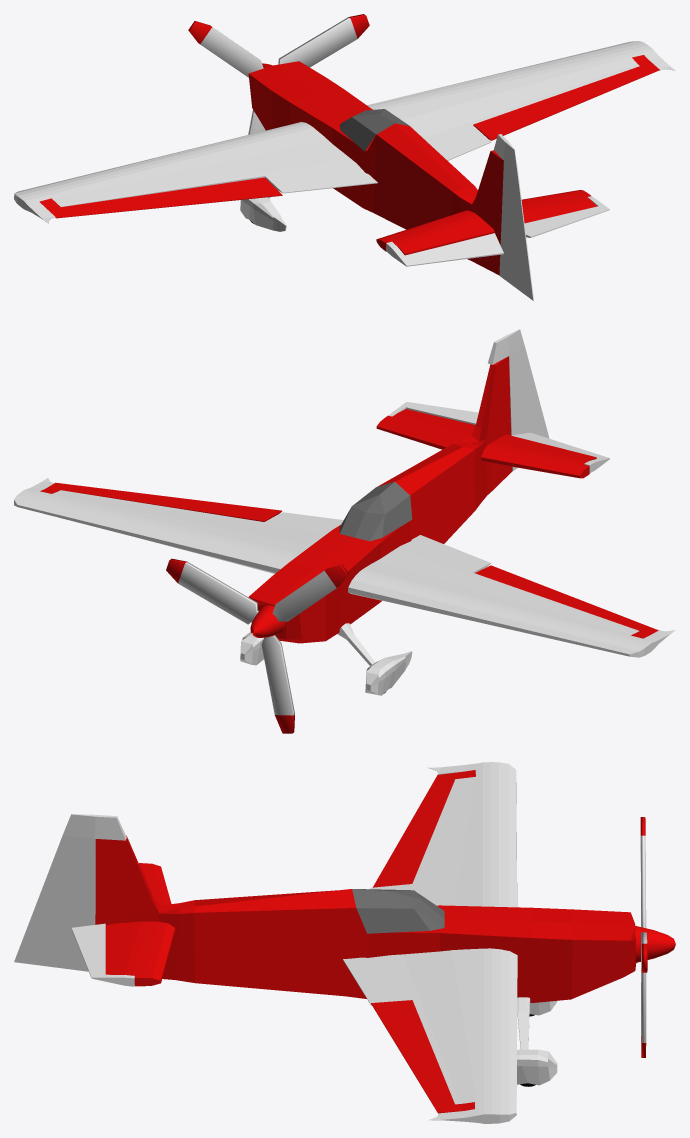
The model's file is RacePlane.fbx.
3 renders of one model, top to bottom at view 1: azimuth 30°, elevation 25°; view 2: azimuth 150°, elevation 25°; view 3: azimuth 270°, elevation 25°, orthographic. The views are drawn at different scales.
Parts seen in each view (by area): view 1: Body, Wing Left, Wing Right, Wing Left Flap, Tail, Cube, Rear Tail Left, Cube.007, Rear Tail Left Flap, Cube.008, Rear Tail Right, Cockpit (+2 smaller); view 2: Body, Wing Left, Wing Right, Tail, Rear Tail Left, Cockpit, Cube, Landing Gear, Rear Tail Right, Cube.007, Wing Left Flap, Cube.003 (+4 smaller); view 3: Body, Wing Right, Wing Left, Tail, Cube, Rear Tail Right, Wing Left Flap, Cockpit, Landing Gear, Rear Tail Right Flap, Propeller, Rear Tail Left (+1 smaller).
Part boxes in pixels (x1,y1,x2,y2): Body: (248, 61, 503, 274); Wing Left: (14, 122, 377, 223); Wing Right: (367, 41, 675, 160); Wing Left Flap: (39, 177, 282, 218); Tail: (494, 134, 533, 300); Cube: (473, 55, 659, 140); Rear Tail Left: (376, 210, 494, 255); Cube.007: (278, 14, 369, 67); Rear Tail Left Flap: (386, 233, 503, 266); Cube.008: (188, 21, 263, 77); Rear Tail Right: (521, 190, 596, 223); Cockpit: (340, 109, 409, 151); Body: (248, 356, 512, 643); Wing Left: (348, 535, 675, 657); Wing Right: (14, 478, 343, 573); Tail: (488, 329, 549, 471); Rear Tail Left: (481, 434, 596, 478); Cockpit: (339, 481, 412, 541); Cube: (40, 482, 281, 521); Landing Gear: (240, 623, 412, 695); Rear Tail Right: (376, 409, 475, 449); Cube.007: (166, 558, 258, 624); Wing Left Flap: (475, 565, 658, 638); Cube.003: (261, 635, 294, 733); Body: (95, 835, 636, 1002); Wing Right: (343, 948, 517, 1123); Wing Left: (370, 762, 517, 907); Tail: (14, 814, 126, 971); Cube: (371, 1000, 474, 1113); Rear Tail Right: (105, 921, 175, 986); Wing Left Flap: (373, 770, 475, 887); Cockpit: (352, 889, 444, 933); Landing Gear: (517, 997, 557, 1085); Rear Tail Right Flap: (71, 923, 134, 986); Propeller: (635, 926, 675, 962); Rear Tail Left: (139, 863, 171, 905).
Bounding box in the file's own units: 1042 × 346 × 828.
